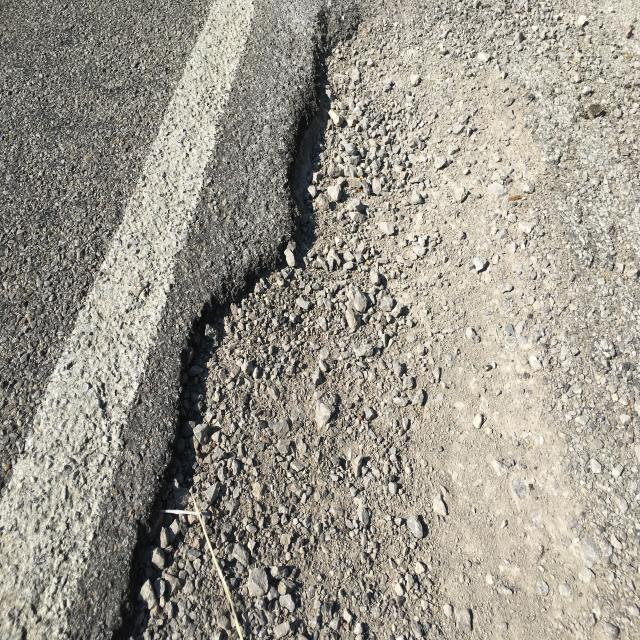Pothole: (80, 0, 457, 640)
